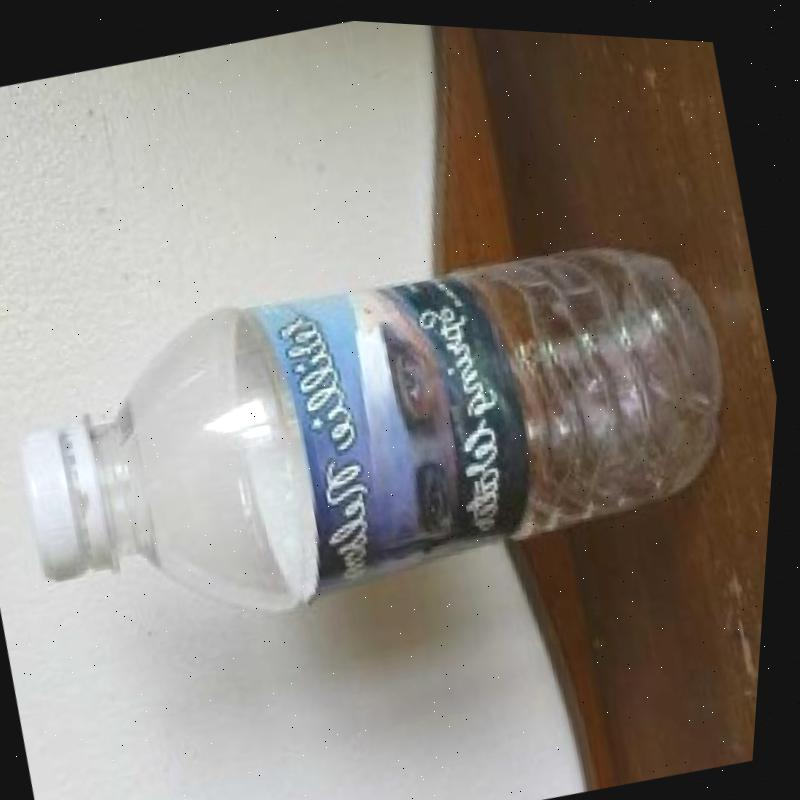botella: (0, 172, 775, 687)
